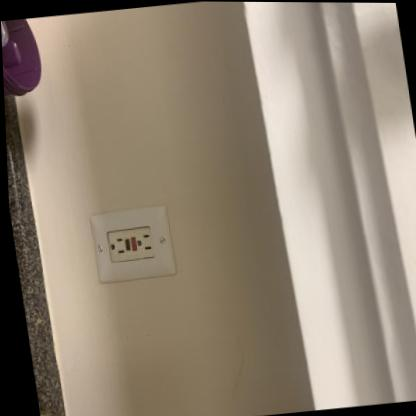OUTLET: (86, 203, 176, 284)
